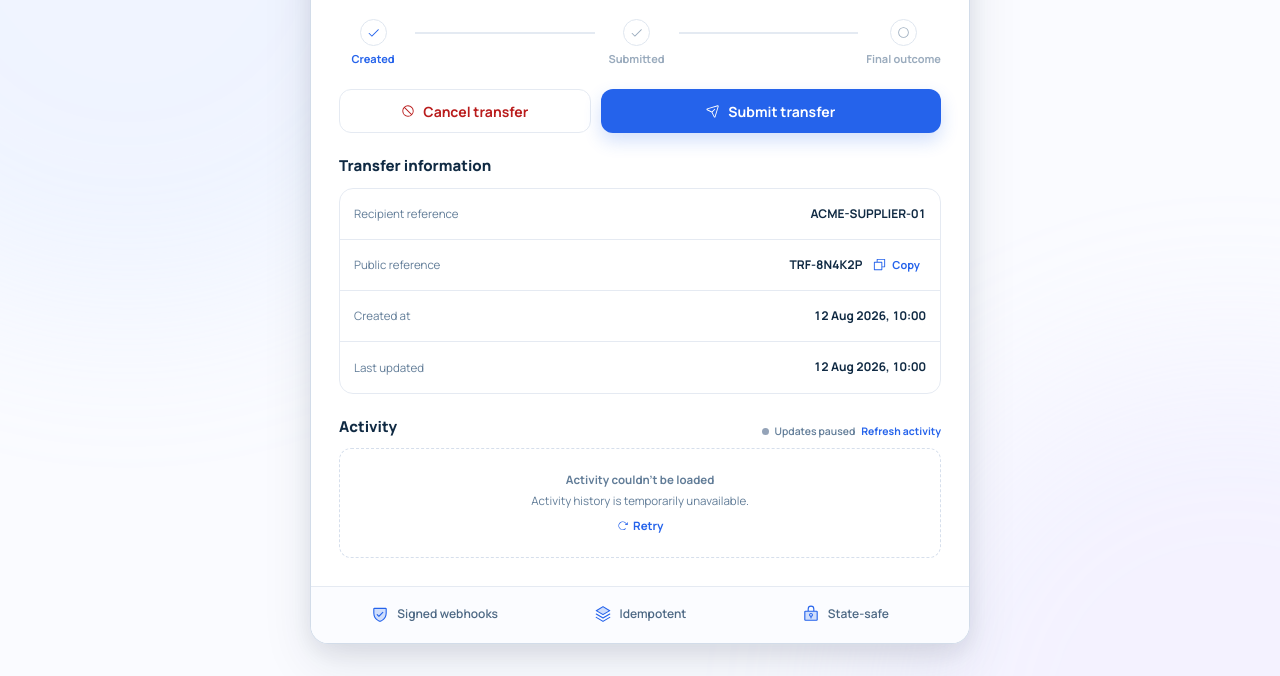
Scenario: TransferDetailScreen › retries activity history without hiding transfer information
The width and height of the screenshot is (1280, 676).
(page scrolled)
Check: the text "Activity couldn’t be loaded" is shown, box [566,472,714,487]
Click the button "Retry" at {"x": 640, "y": 525}, box [616,517,663,534]
(page scrolled)
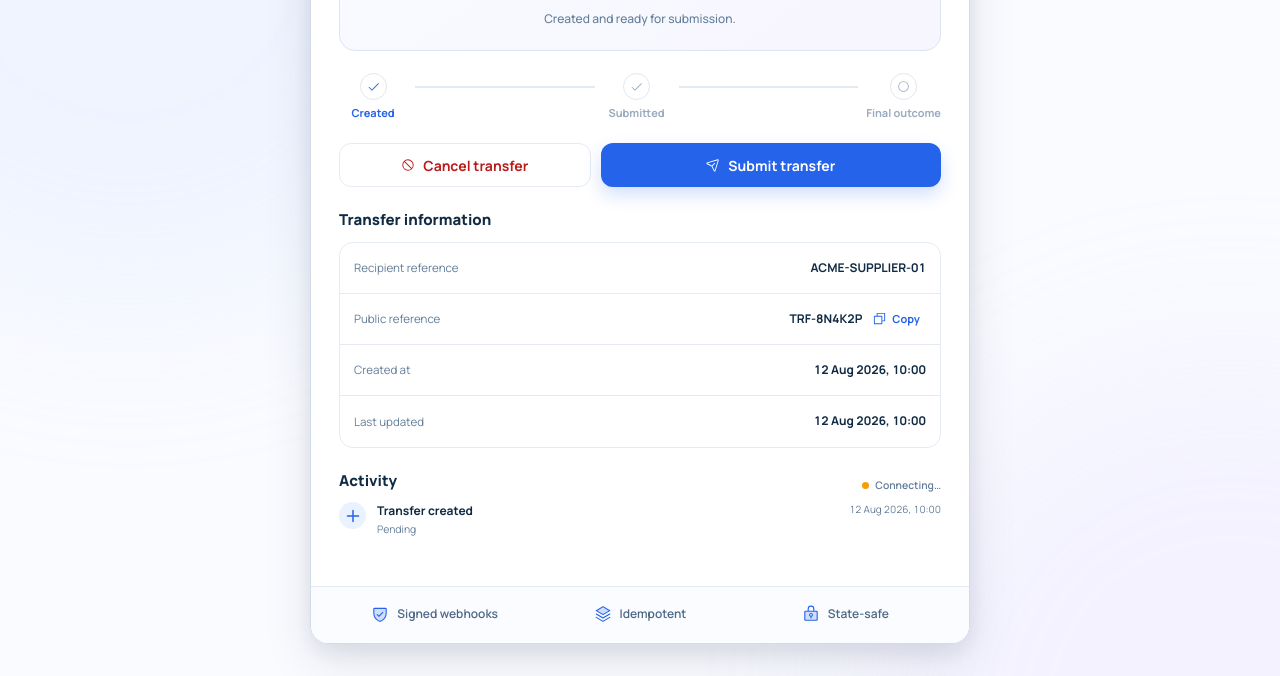
Check: the text "Transfer created" is shown, box [377,502,473,519]
